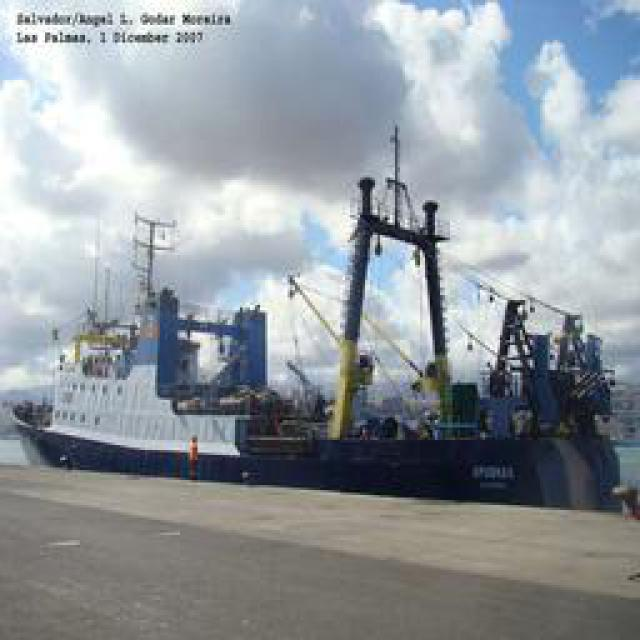Ship: (10, 164, 608, 494)
